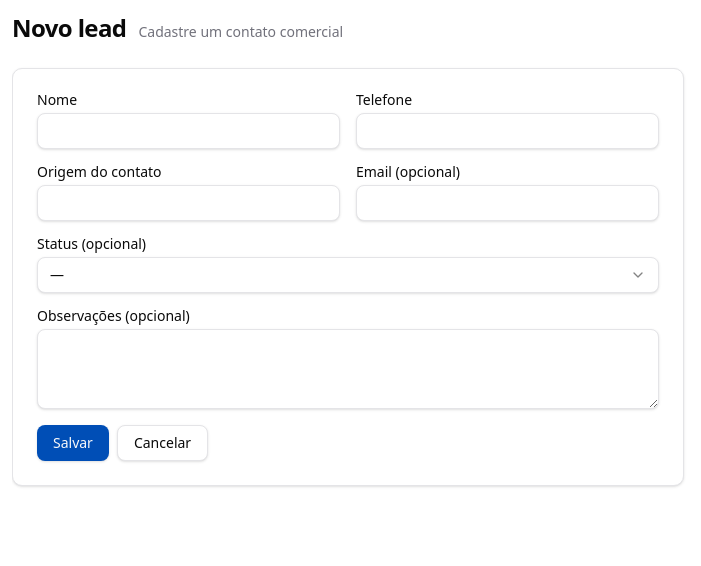
Test: LeadNewPage › creates a lead and shows backend errors
Type "João" into the field labelled "Nome" at (188, 131), box [37,113,340,149]
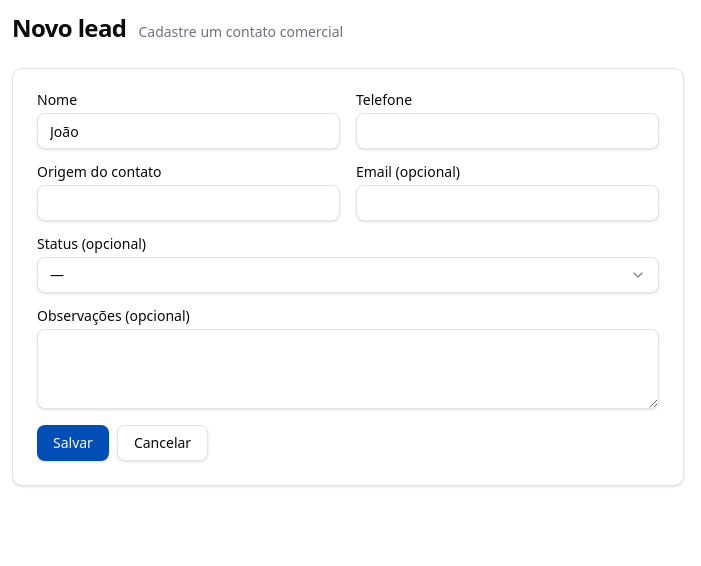
Type "11999990001" into the field labelled "Telefone" at (508, 131), box [356,113,659,149]
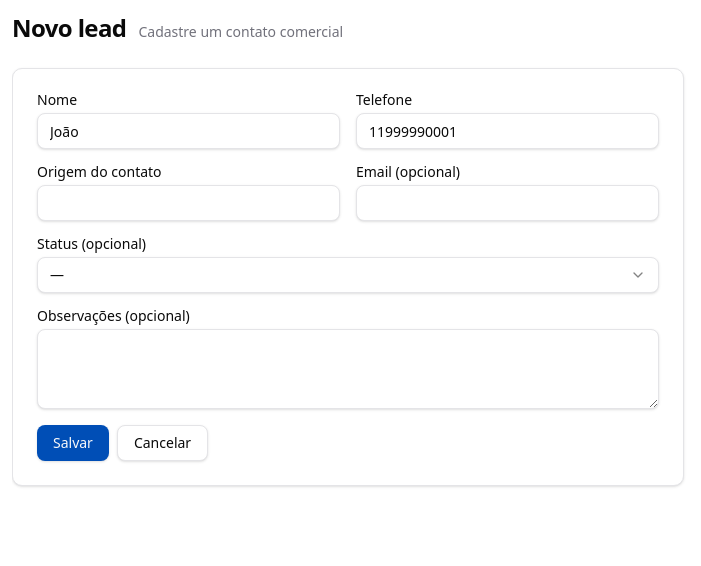
Type "instagram" into the field labelled "Origem do contato" at (188, 203), box [37,185,340,221]
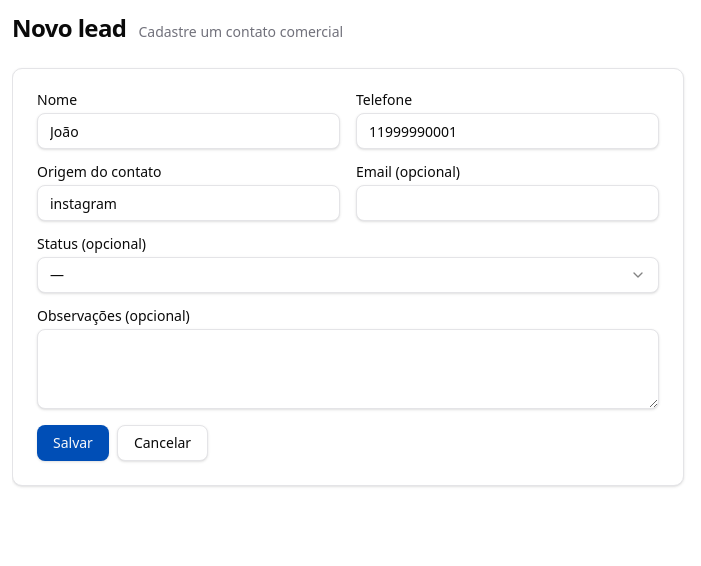
Click the button "Salvar" at (73, 443), box [37,425,109,461]
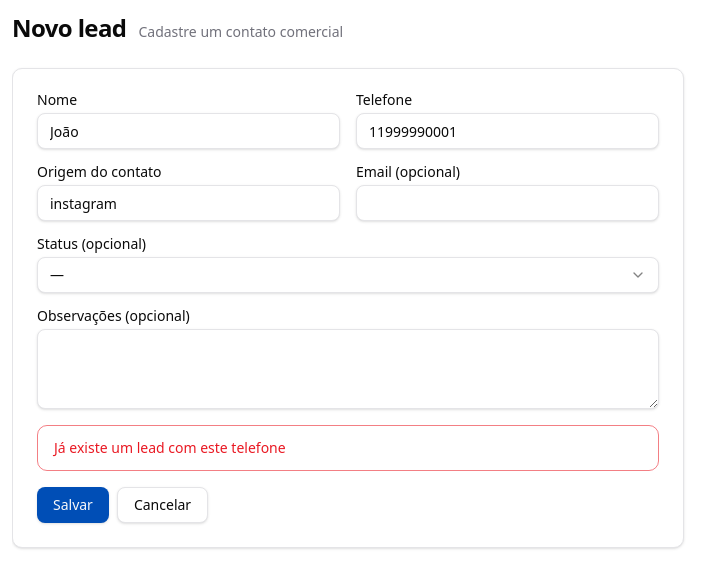
Expected: the text "Já existe um lead com este telefone" is shown, [54,438,286,457]
